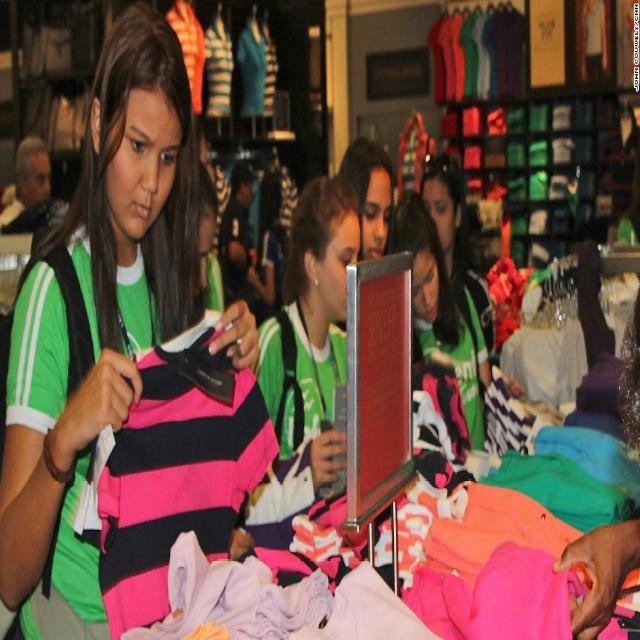body: (0, 3, 263, 639), (239, 174, 363, 554), (382, 186, 492, 451), (419, 152, 497, 366), (140, 153, 217, 349), (552, 515, 639, 640), (335, 137, 396, 263), (218, 158, 261, 332), (0, 132, 53, 233), (261, 134, 291, 280), (578, 207, 638, 261), (196, 125, 228, 196), (0, 170, 20, 236)
